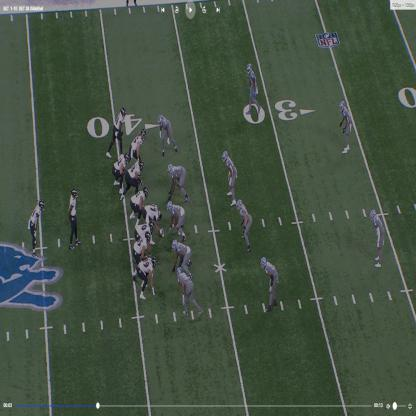CENTER: (146, 200, 162, 236)
DB: (261, 255, 281, 308), (369, 209, 385, 264), (244, 60, 258, 111), (340, 101, 354, 152)
LB: (177, 268, 200, 316), (236, 193, 253, 253), (223, 148, 239, 206), (160, 115, 176, 158)
QB: (68, 188, 77, 246)
SKILL: (28, 202, 43, 254), (112, 150, 130, 191), (112, 109, 129, 148), (141, 254, 157, 294), (130, 128, 146, 159)
